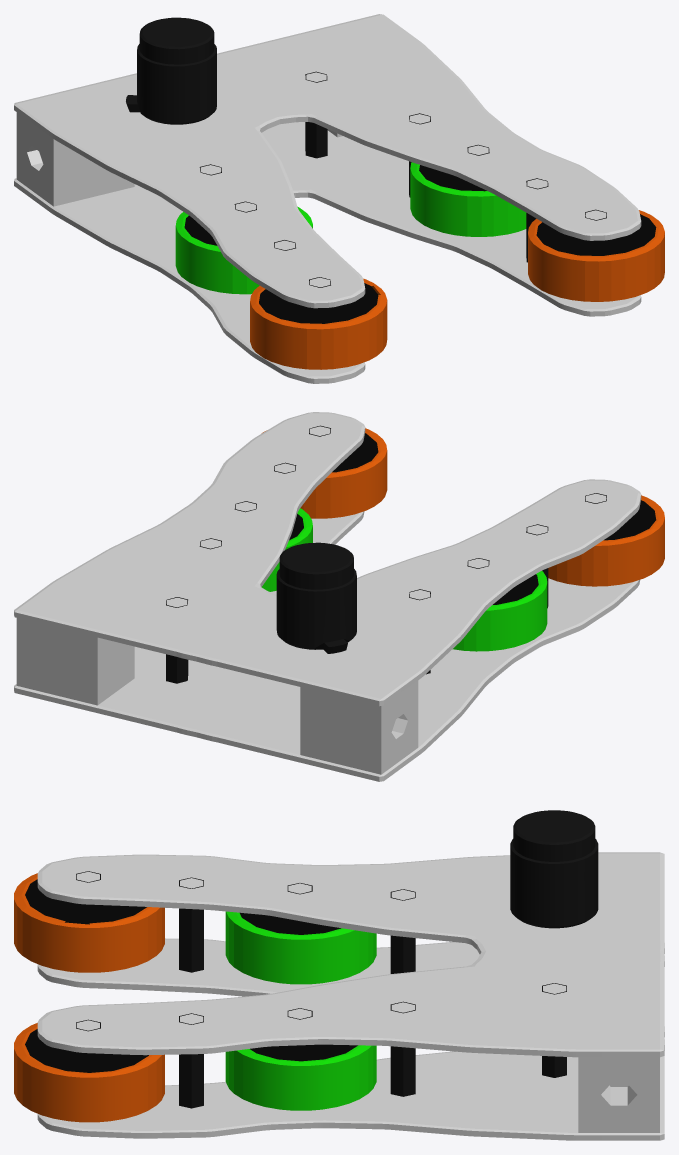
File: Intake.fbx
3 views of the same model, one above another, from view 1: azimuth 30°, elevation 25°; view 2: azimuth 150°, elevation 25°; view 3: azimuth 270°, elevation 25° (orthographic). The views are drawn at different scales.
Visible parts, largest first — view 1: Tarugo; view 2: Tarugo; view 3: Tarugo.
Boxes of the visible parts, box(x1,y1,x2,y2) form: Tarugo: box(14, 14, 664, 383); Tarugo: box(14, 412, 664, 781); Tarugo: box(14, 810, 664, 1140).
Size of the model in its own units: 29.01 by 11.41 by 37.45.
